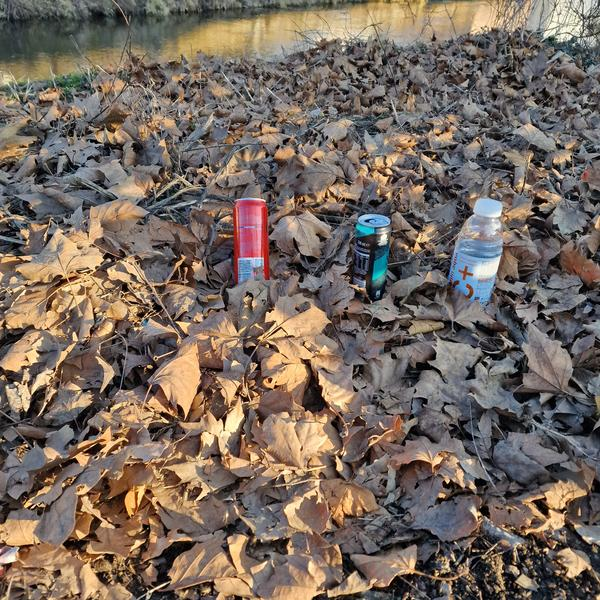can: (346, 211, 394, 304), (234, 197, 269, 285)
plastic_bottle: (443, 194, 514, 309)
